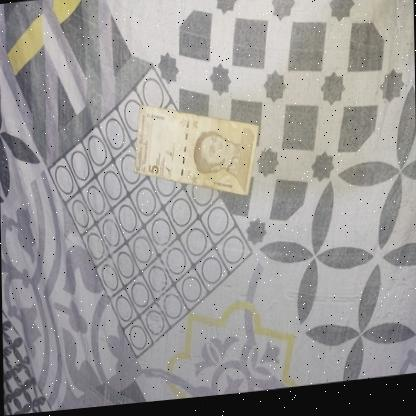five-front-vef: (130, 94, 260, 210)
